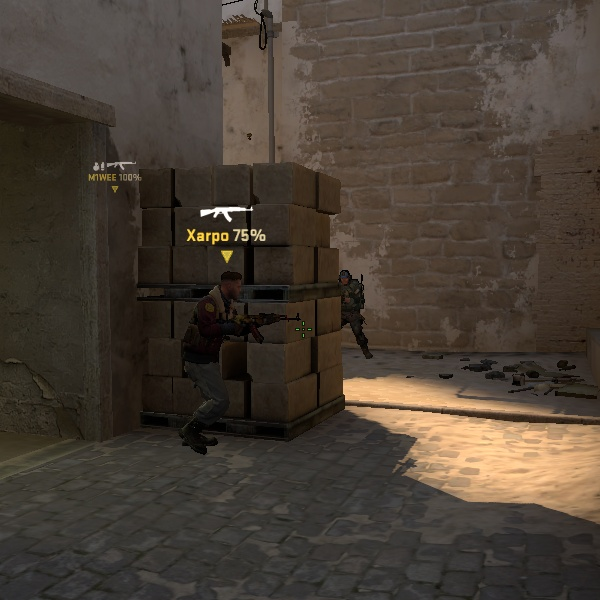ct_body: (331, 266, 379, 366)
ct_head: (336, 267, 358, 292)
t_body: (161, 266, 269, 446)
t_head: (208, 266, 251, 312)
